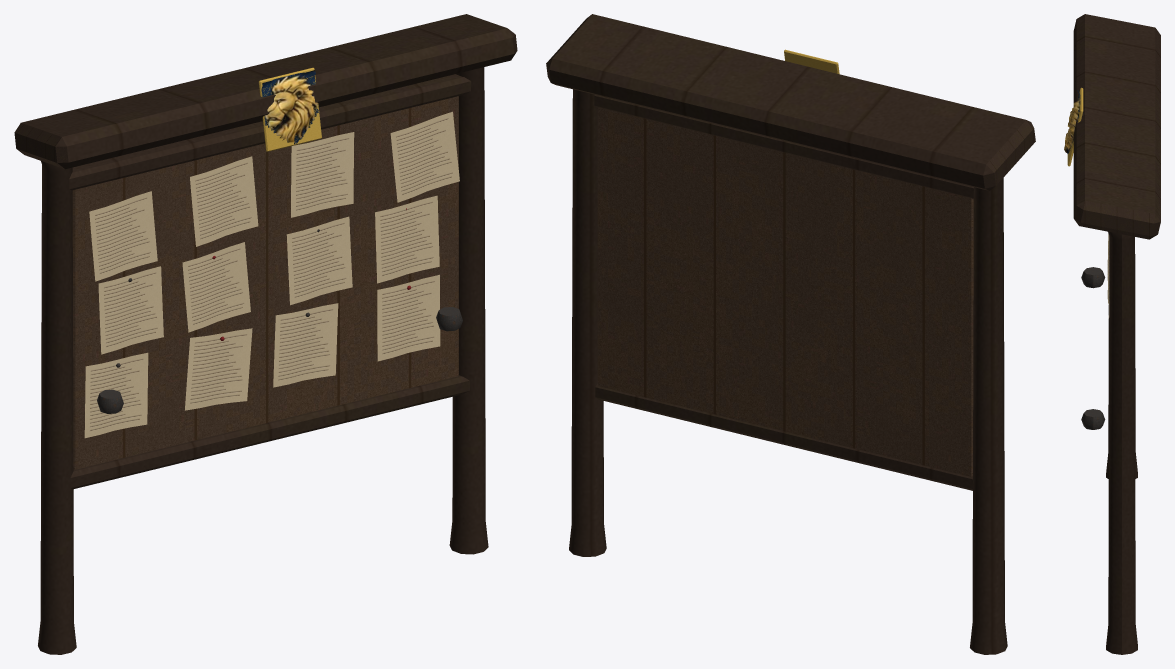
File: quest_board.glb
The picture shows the model from 3 angles, left to right: view 1: azimuth 30°, elevation 25°; view 2: azimuth 150°, elevation 25°; view 3: azimuth 270°, elevation 25°; orthographic projection. The views are drawn at different scales.
Visible parts, largest first — view 1: quest_board; view 2: quest_board; view 3: quest_board.
Part boxes in pixels (x1,y1,x2,y2): quest_board: (14,14,517,654); quest_board: (546,14,1035,654); quest_board: (1064,14,1160,654).
Bounding box in the file's own units: 1.9 × 2.13 × 0.4042.
Materials: 1 (1 with a texture image).
